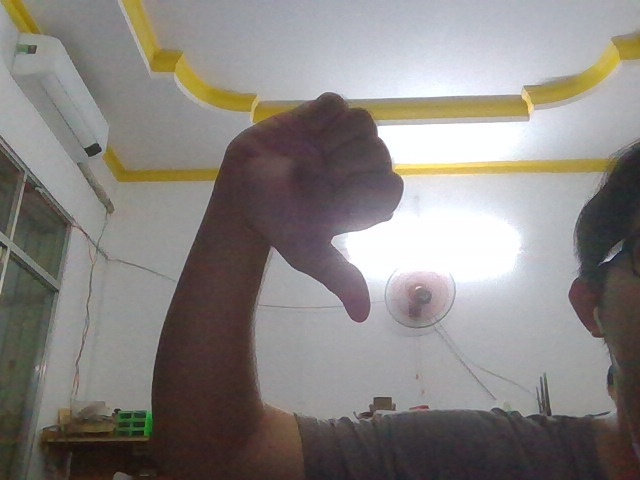thumb_down: (187, 70, 432, 342)
